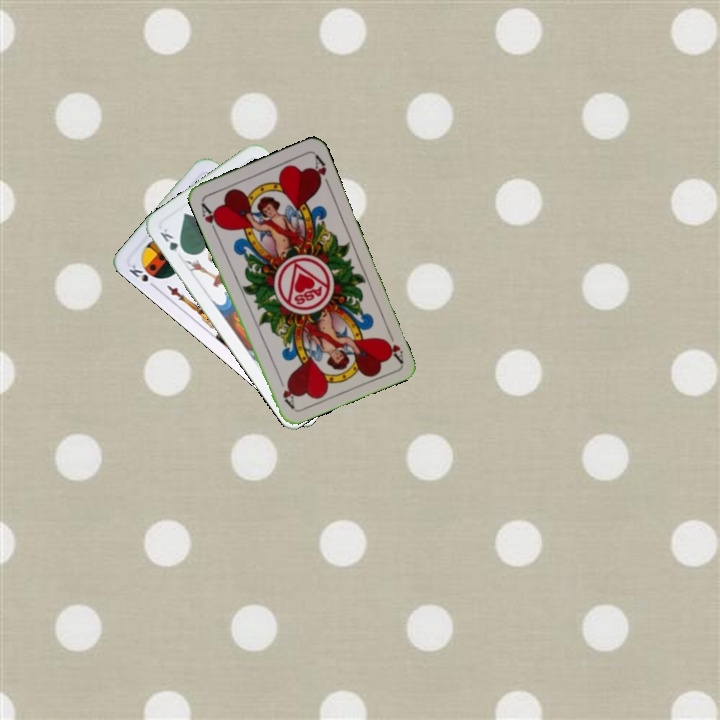GK: (156, 224, 188, 257)
HA: (197, 199, 225, 237), (380, 325, 406, 365)
SK: (125, 260, 159, 291)
